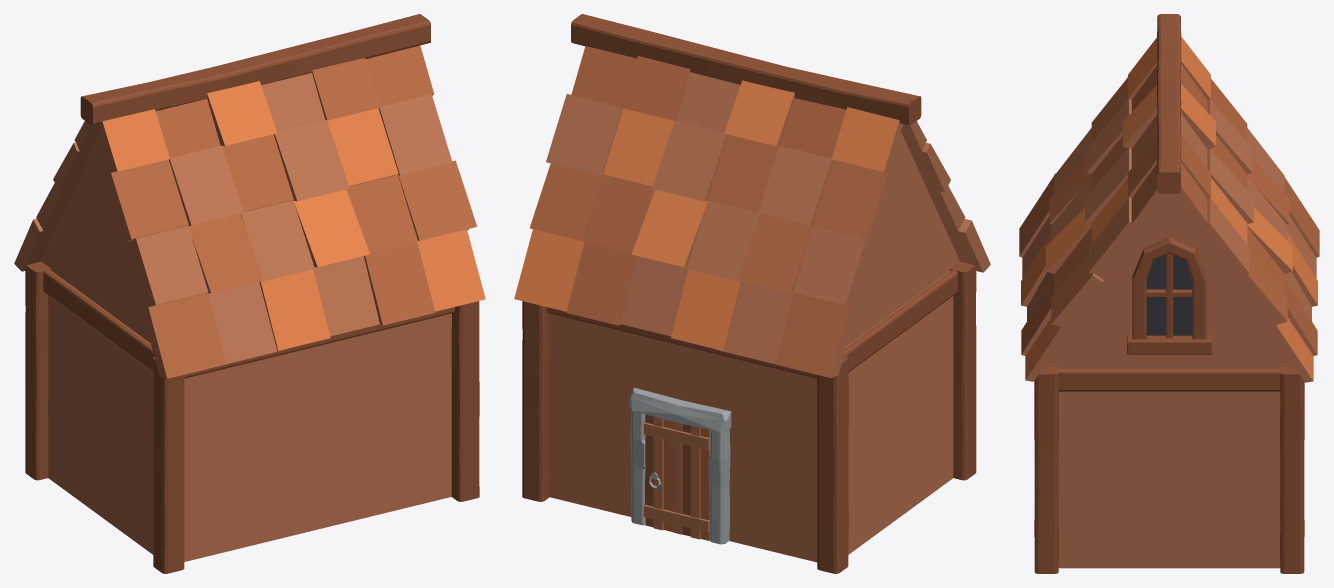
Rendered from house2.fbx.
3 views of the same model, side by side, from view 1: azimuth 30°, elevation 25°; view 2: azimuth 150°, elevation 25°; view 3: azimuth 270°, elevation 25° (orthographic). The views are drawn at different scales.
Visible parts, largest first — view 1: Cube.018, Cube.012, Cube.013; view 2: Cube.018, Cube.012, Cube.013, Cube.016, Cube.015; view 3: Cube.018, Cube.012, Cube.013, Cube.023.
Boxes of the visible parts, box(x1,y1,x2,y2) form: Cube.018: box(14, 14, 485, 378); Cube.012: box(48, 271, 451, 561); Cube.013: box(25, 261, 479, 573); Cube.018: box(514, 14, 990, 377); Cube.012: box(549, 271, 953, 562); Cube.013: box(522, 261, 976, 573); Cube.016: box(643, 414, 710, 540); Cube.015: box(629, 387, 731, 544); Cube.018: box(1019, 14, 1319, 382); Cube.012: box(1058, 391, 1280, 568); Cube.013: box(1034, 367, 1304, 573); Cube.023: box(1127, 237, 1211, 354).
Bounding box in the file's own units: 623 × 749 × 500.
2 materials, 1 textured.
